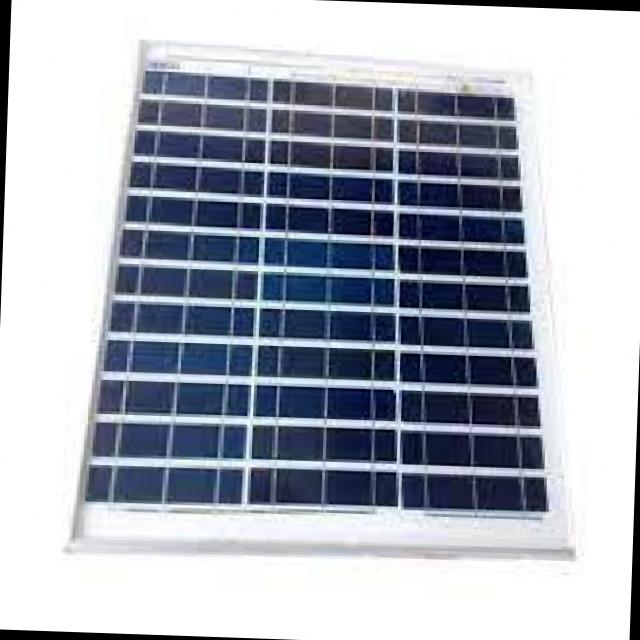no faulty: (96, 73, 532, 508)
